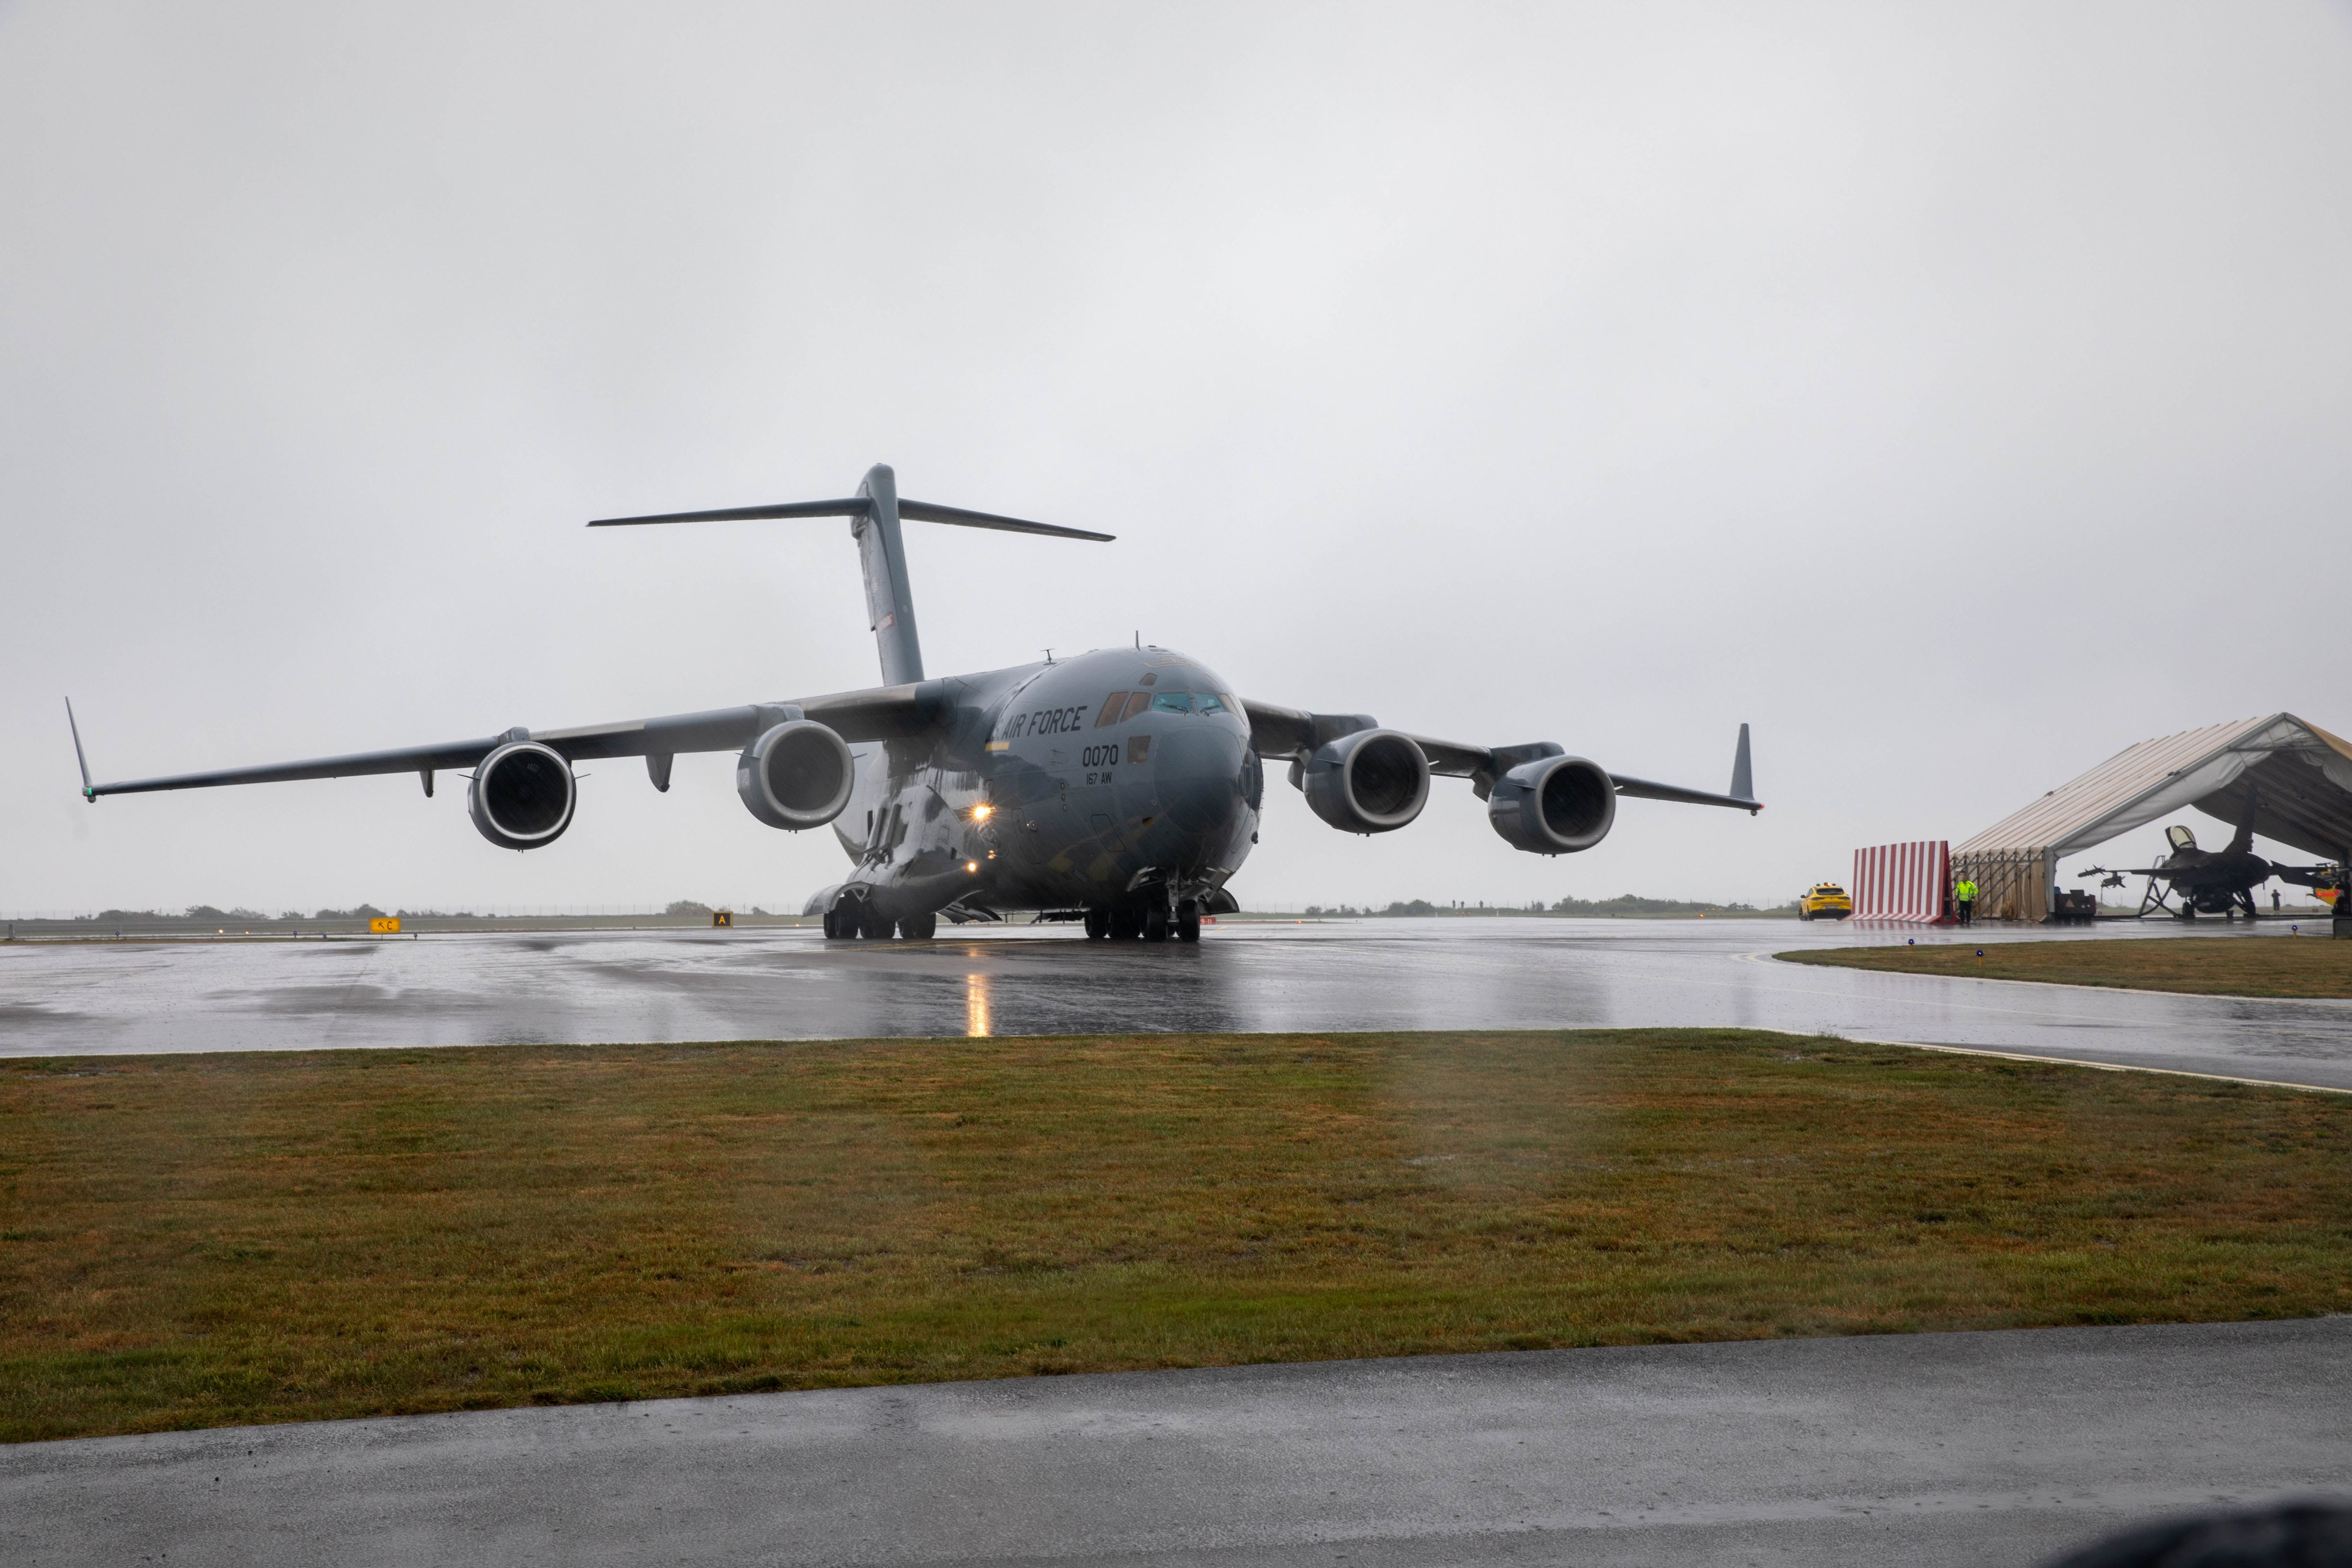airplane: (65, 462, 1765, 941), (2077, 781, 2352, 918)
